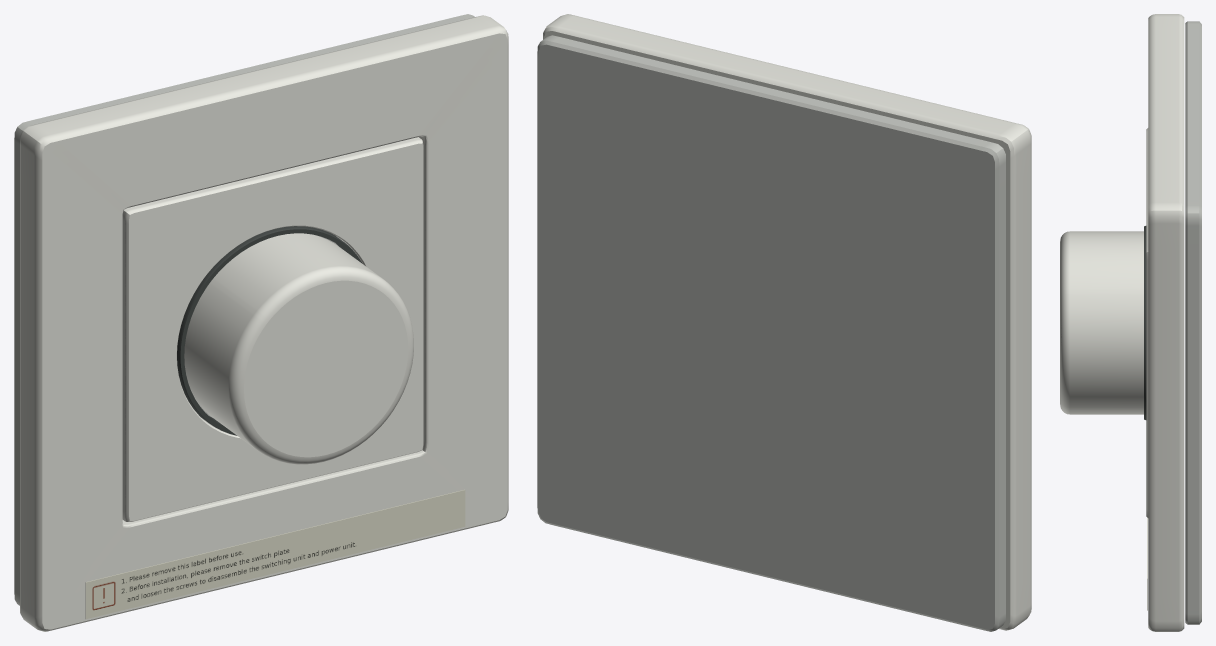
Rendered from 01_Zigbee_Rotary_Dimmer.glb.
3 views of the same model, side by side, from view 1: azimuth 30°, elevation 25°; view 2: azimuth 150°, elevation 25°; view 3: azimuth 270°, elevation 25° (orthographic). The views are drawn at different scales.
Parts seen in each view (by area): view 1: 02_Beveled_Outer_Frame, 03_Inset_Square_Plate, 05_Rotary_Knob, 06_Removable_Installation_Label, 01_Rear_Mounting_Cover, 04_Recessed_Knob_Collar; view 2: 01_Rear_Mounting_Cover, 02_Beveled_Outer_Frame; view 3: 02_Beveled_Outer_Frame, 05_Rotary_Knob, 01_Rear_Mounting_Cover, 03_Inset_Square_Plate, 04_Recessed_Knob_Collar.
Boxes of the visible parts, box(x1,y1,x2,y2) form: 02_Beveled_Outer_Frame: box(20, 15, 508, 631); 03_Inset_Square_Plate: box(122, 137, 423, 521); 05_Rotary_Knob: box(184, 233, 413, 464); 06_Removable_Installation_Label: box(85, 489, 465, 619); 01_Rear_Mounting_Cover: box(14, 14, 474, 605); 04_Recessed_Knob_Collar: box(177, 226, 362, 435); 01_Rear_Mounting_Cover: box(537, 35, 1005, 631); 02_Beveled_Outer_Frame: box(543, 14, 1031, 630); 02_Beveled_Outer_Frame: box(1148, 14, 1184, 631); 05_Rotary_Knob: box(1060, 231, 1143, 414); 01_Rear_Mounting_Cover: box(1185, 21, 1201, 624); 03_Inset_Square_Plate: box(1146, 128, 1148, 517); 04_Recessed_Knob_Collar: box(1144, 226, 1146, 419).
Bounding box in the file's own units: 0.086 × 0.086 × 0.0259.
Materials: 4 (1 with a texture image).
